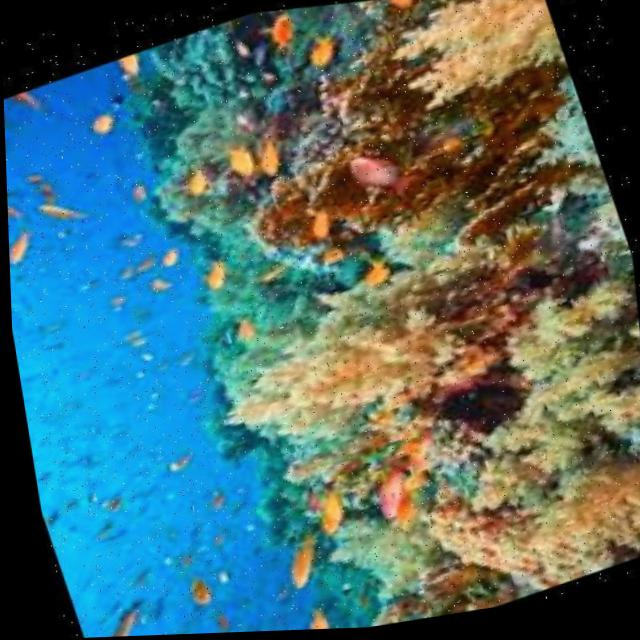Healthy Coral: (155, 0, 629, 325), (180, 242, 510, 498), (376, 351, 640, 622)
